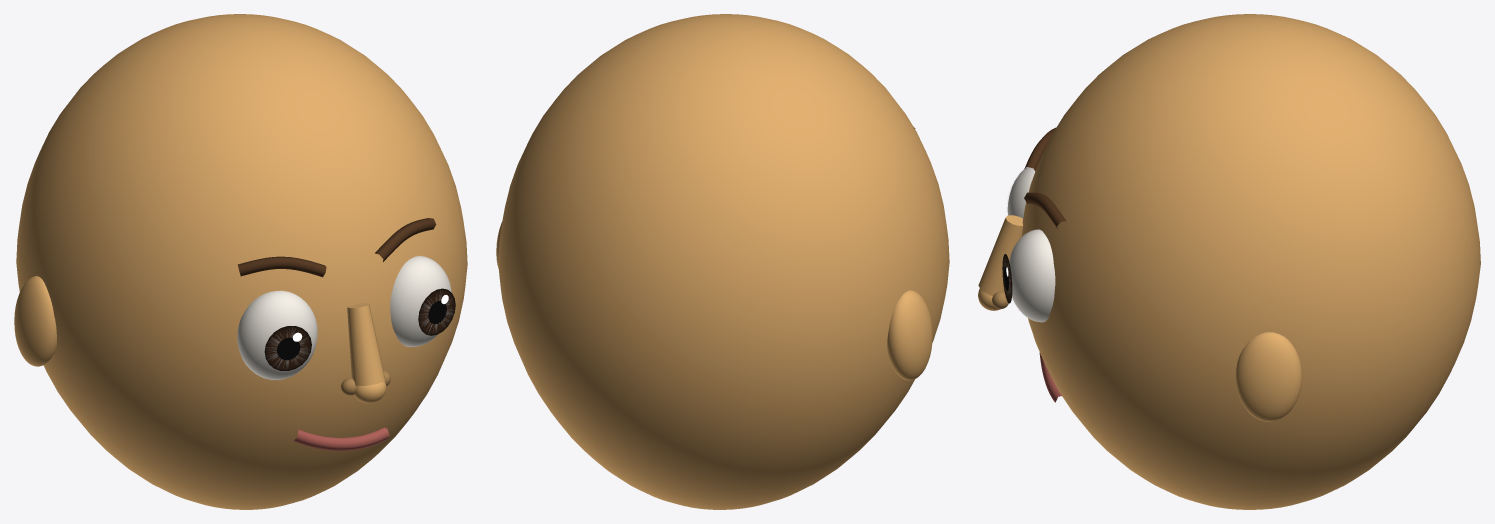
File: 12-moqueur.glb
3 renders of one model, left to right at view 1: azimuth 30°, elevation 25°; view 2: azimuth 150°, elevation 25°; view 3: azimuth 270°, elevation 25°, orthographic.
Bounding box in the file's own units: 0.3087 × 0.321 × 0.3166.
9 materials, 1 textured.
